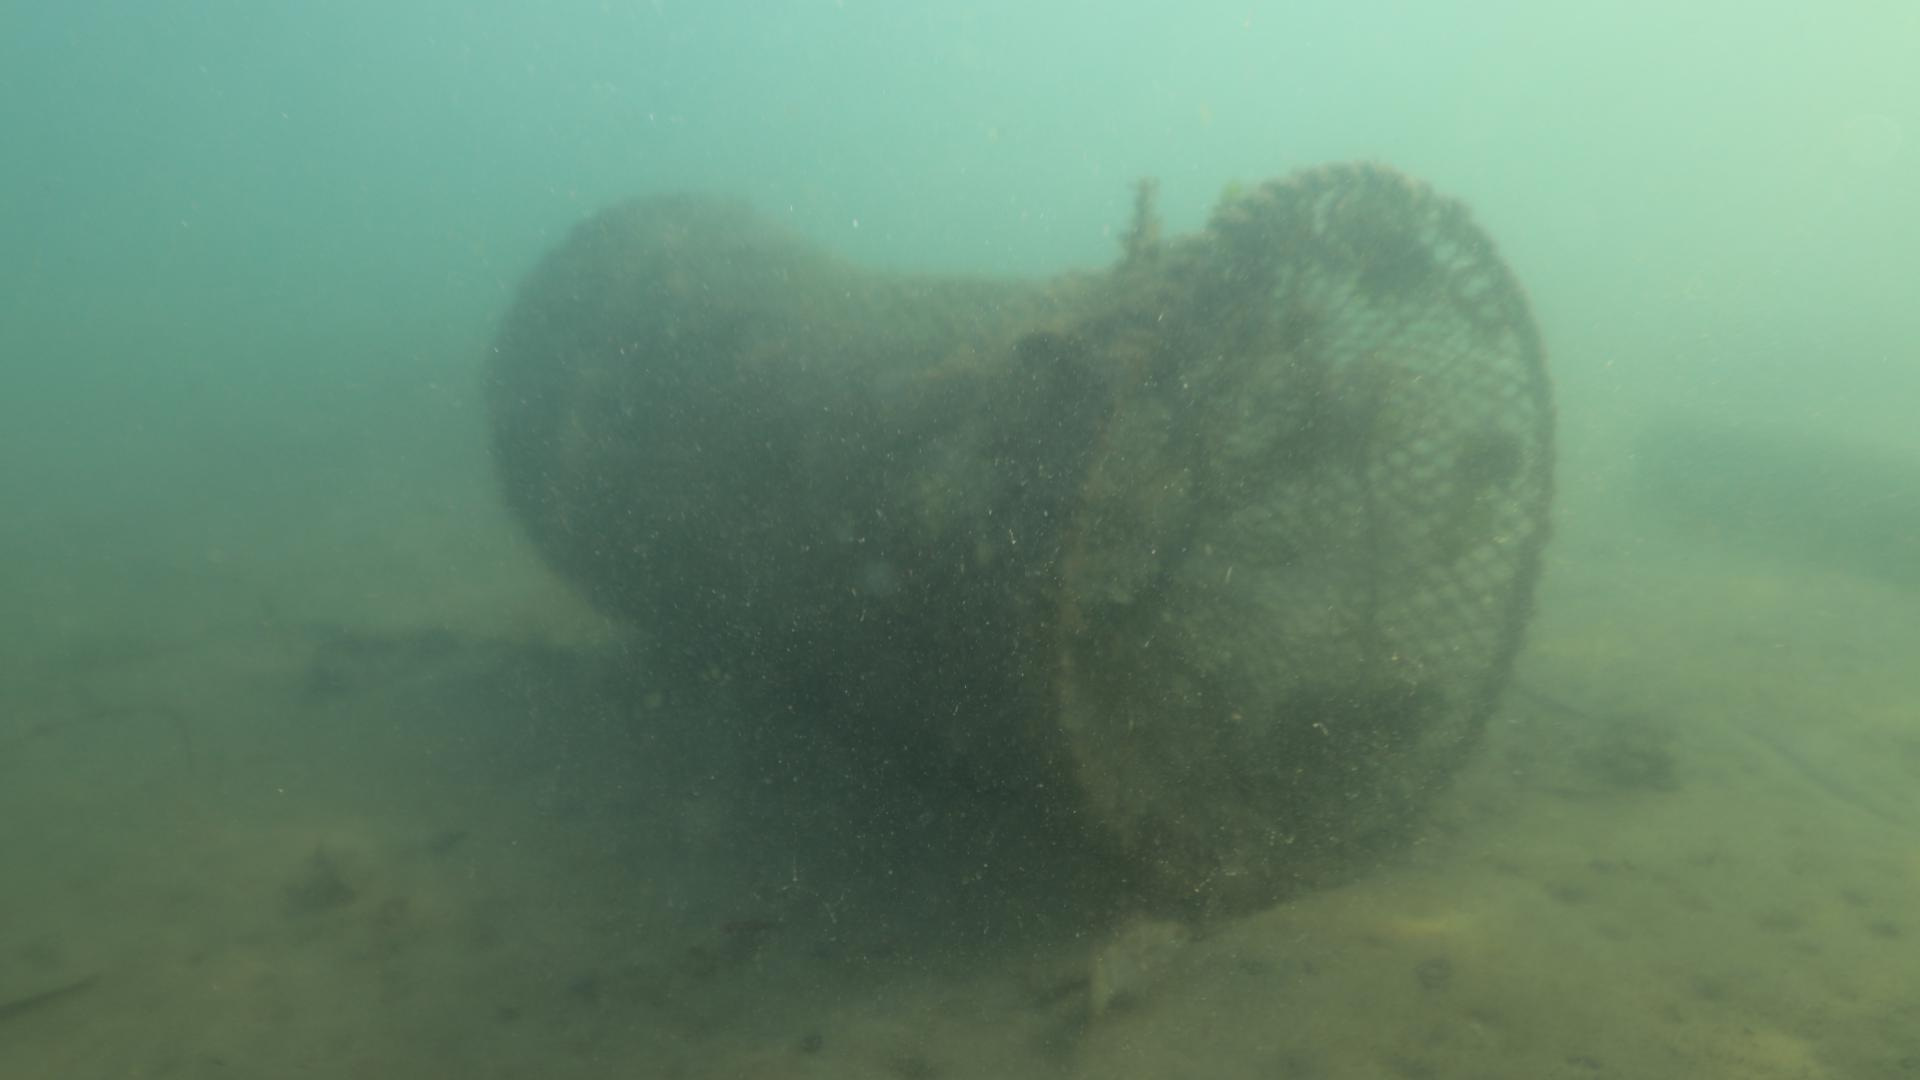spring fish trap: (477, 153, 1559, 913)
